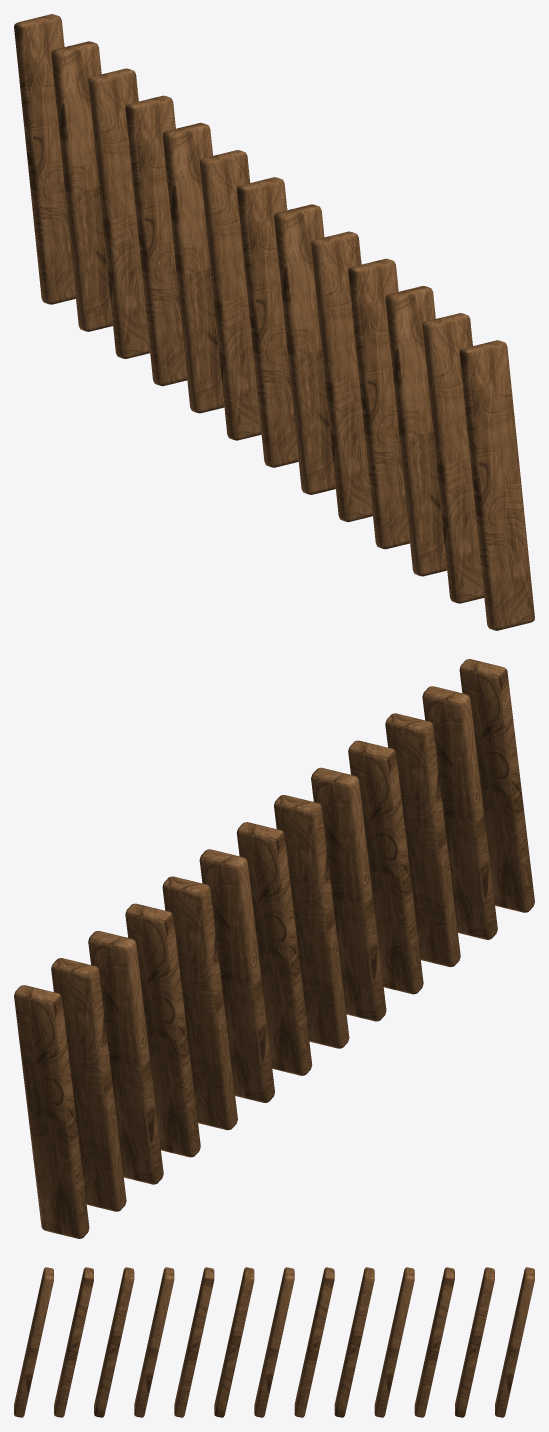
File: WoodenBar.fbx
3 views of the same model, one above another, from view 1: azimuth 30°, elevation 25°; view 2: azimuth 150°, elevation 25°; view 3: azimuth 270°, elevation 25° (orthographic). The views are drawn at different scales.
Parts seen in each view (by area): view 1: WoodenBar; view 2: WoodenBar; view 3: WoodenBar.
Boxes of the visible parts, bbox=[...] form: WoodenBar: bbox=[14, 14, 534, 630]; WoodenBar: bbox=[14, 659, 534, 1238]; WoodenBar: bbox=[14, 1267, 534, 1417].
Size of the model in its own units: 198 by 59.24 by 10.
1 material, 1 textured.
